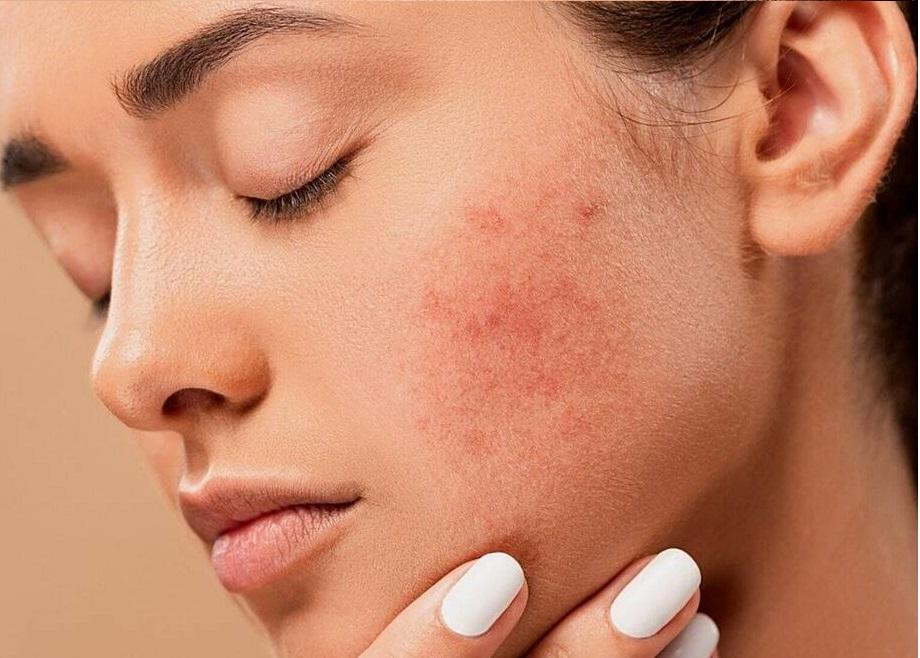Skin-Redness: (409, 254, 635, 463), (549, 164, 627, 244), (452, 177, 524, 244)
